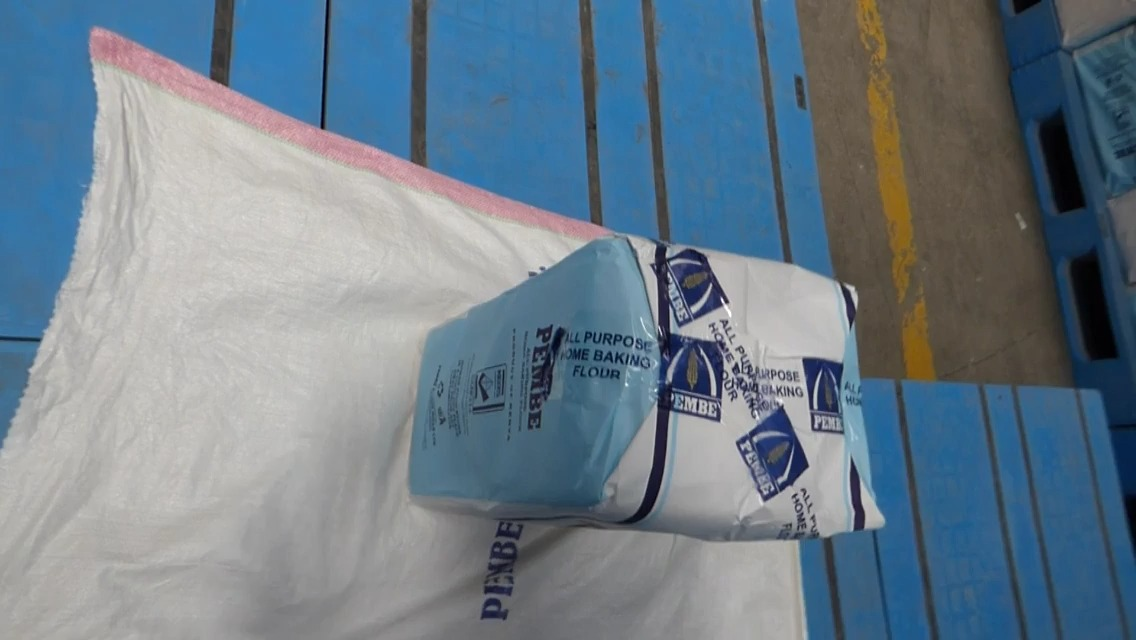wheat_flour_blue_label: (415, 236, 888, 550), (0, 550, 888, 640)
